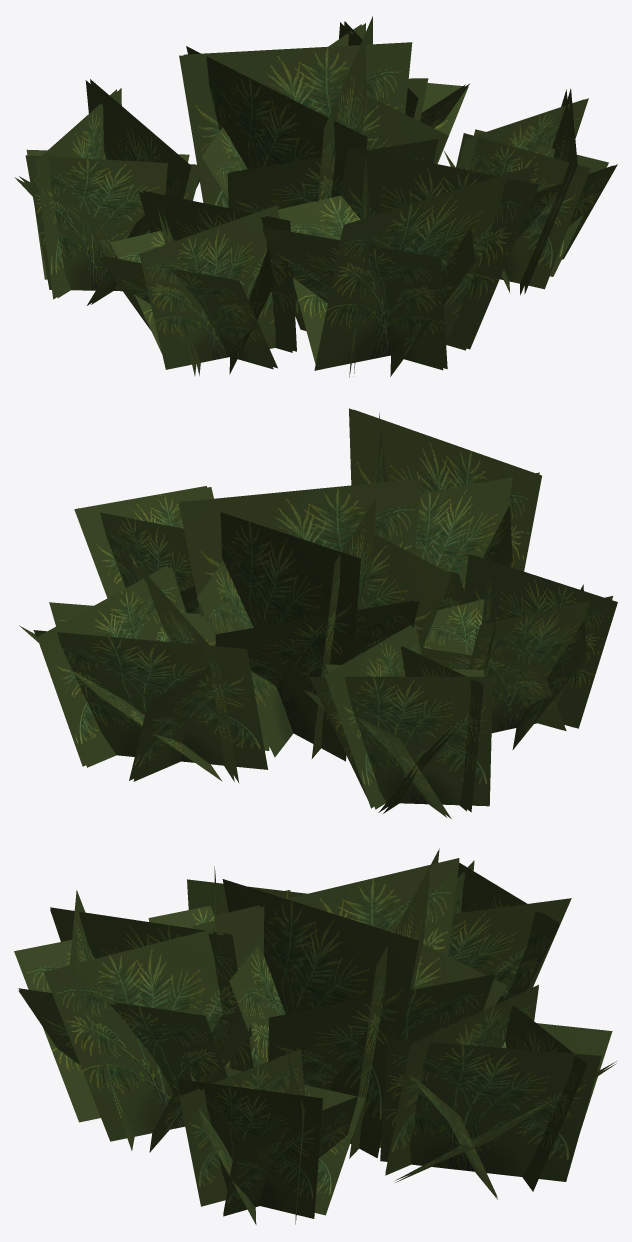
The model's file is GM_guanmu002_001.FBX.
The picture shows the model from 3 angles, top to bottom: view 1: azimuth 30°, elevation 25°; view 2: azimuth 150°, elevation 25°; view 3: azimuth 270°, elevation 25°; orthographic projection. The views are drawn at different scales.
Visible parts, largest first — view 1: GM_巴陵灌木002_001; view 2: GM_巴陵灌木002_001; view 3: GM_巴陵灌木002_001.
Part boxes in pixels (x1,y1,x2,y2): GM_巴陵灌木002_001: [14, 16, 617, 377]; GM_巴陵灌木002_001: [19, 408, 617, 818]; GM_巴陵灌木002_001: [14, 848, 616, 1224].
Size of the model in its own units: 416 by 172 by 413.
